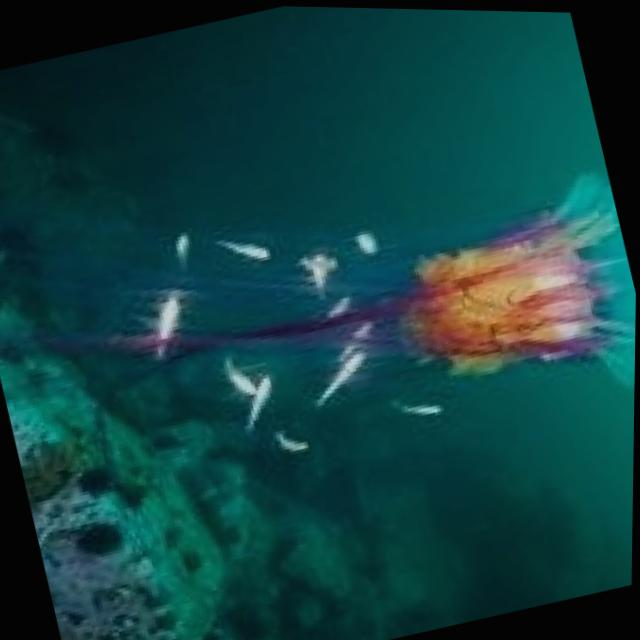Moon-jellyfish: (16, 121, 639, 521)
